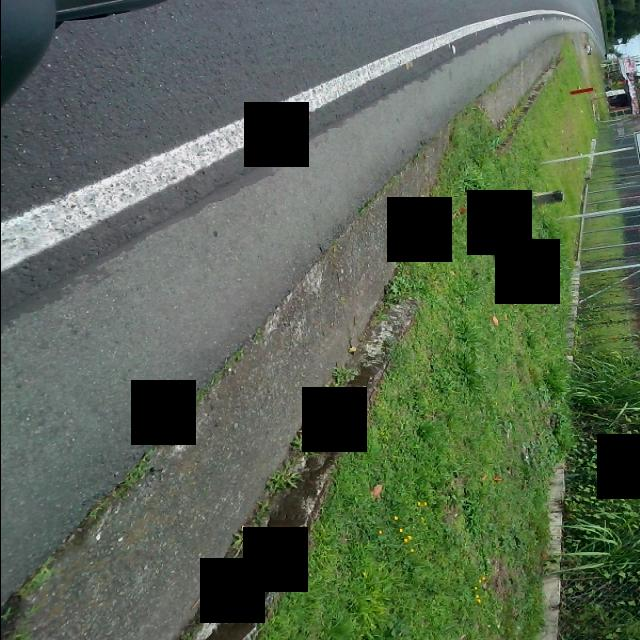DITCH: (2, 11, 603, 638)
